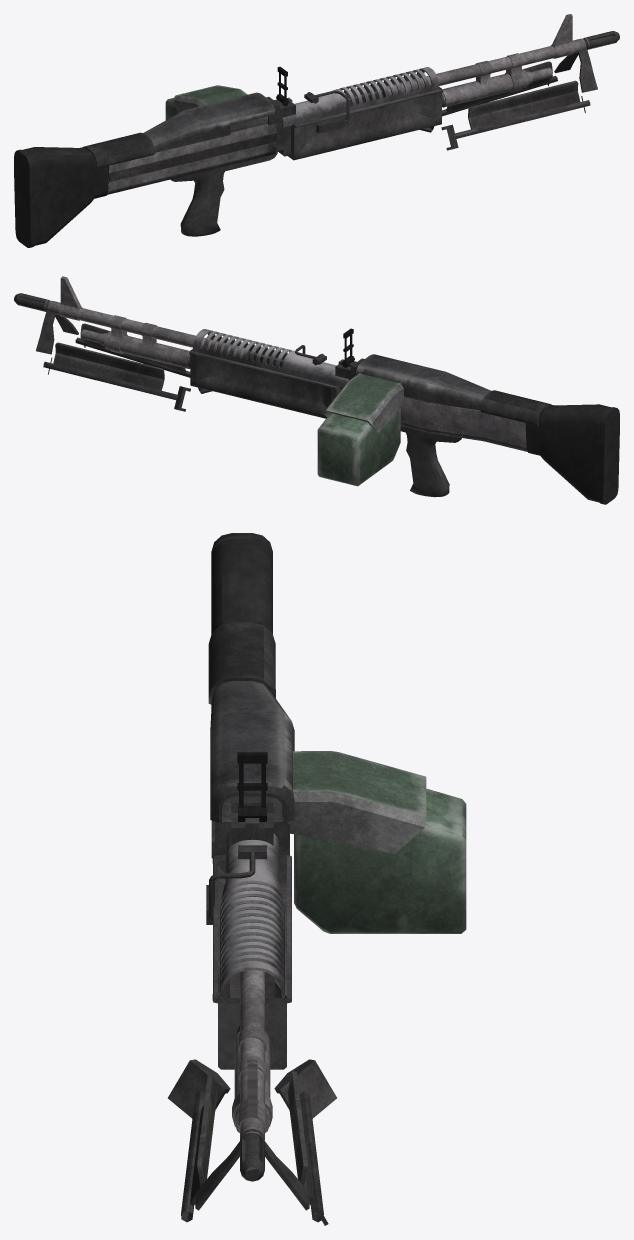
3 views of the same model, one above another, from view 1: azimuth 30°, elevation 25°; view 2: azimuth 150°, elevation 25°; view 3: azimuth 270°, elevation 25° (orthographic). The views are drawn at different scales.
Parts seen in each view (by area): view 1: M60, Bipod_L, Bipod_R; view 2: M60, Bipod_R, Bipod_L; view 3: M60, Bipod_R, Bipod_L.
Part boxes in pixels (x1=…): M60: x1=14, y1=14, x2=619, y2=247; Bipod_L: x1=441, y1=80, x2=590, y2=150; Bipod_R: x1=419, y1=61, x2=557, y2=132; M60: x1=14, y1=276, x2=619, y2=504; Bipod_R: x1=43, y1=342, x2=190, y2=411; Bipod_L: x1=75, y1=323, x2=212, y2=393; M60: x1=195, y1=533, x2=466, y2=1210; Bipod_R: x1=274, y1=1059, x2=336, y2=1225; Bipod_L: x1=168, y1=1059, x2=230, y2=1222.
Size of the model in its own units: 1.1 by 0.2549 by 0.2408.
Materials: 1 (1 with a texture image).
